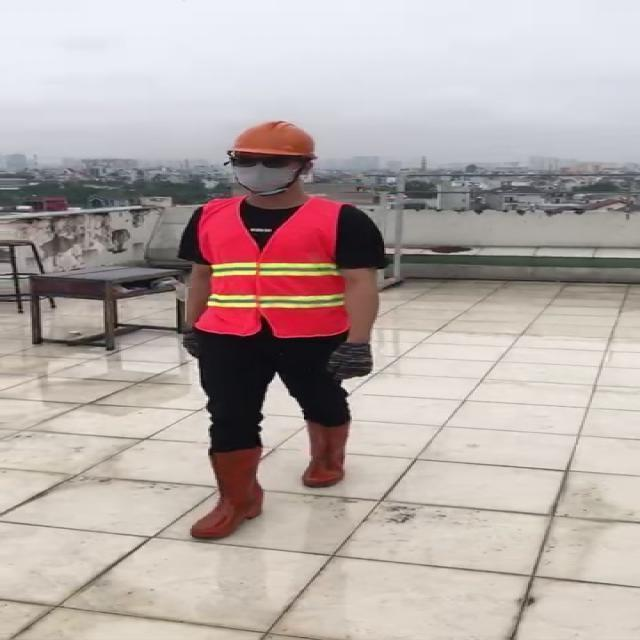gloves: (323, 339, 373, 381)
goggles: (229, 153, 303, 168)
helmet: (222, 114, 320, 161)
safety_vest: (185, 197, 354, 336)
